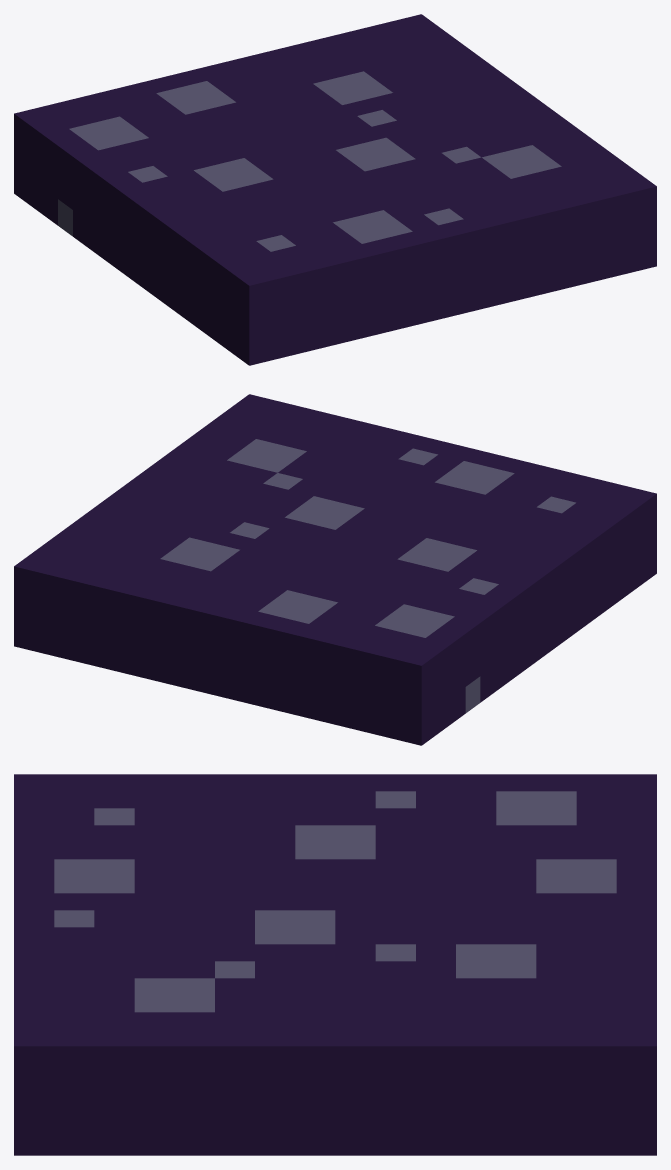
Rendered from floor_cave_gravel.obj.
3 renders of one model, top to bottom at view 1: azimuth 30°, elevation 25°; view 2: azimuth 150°, elevation 25°; view 3: azimuth 270°, elevation 25°, orthographic. The views are drawn at different scales.
Parts seen in each view (by area): view 1: floor_cave_gravel; view 2: floor_cave_gravel; view 3: floor_cave_gravel.
Boxes of the visible parts, x1,y1,x2,y2 form: floor_cave_gravel: (14, 14, 656, 365); floor_cave_gravel: (14, 394, 656, 745); floor_cave_gravel: (14, 774, 656, 1155).
Bounding box in the file's own units: 1 × 0.1875 × 1.
1 material, 1 textured.
